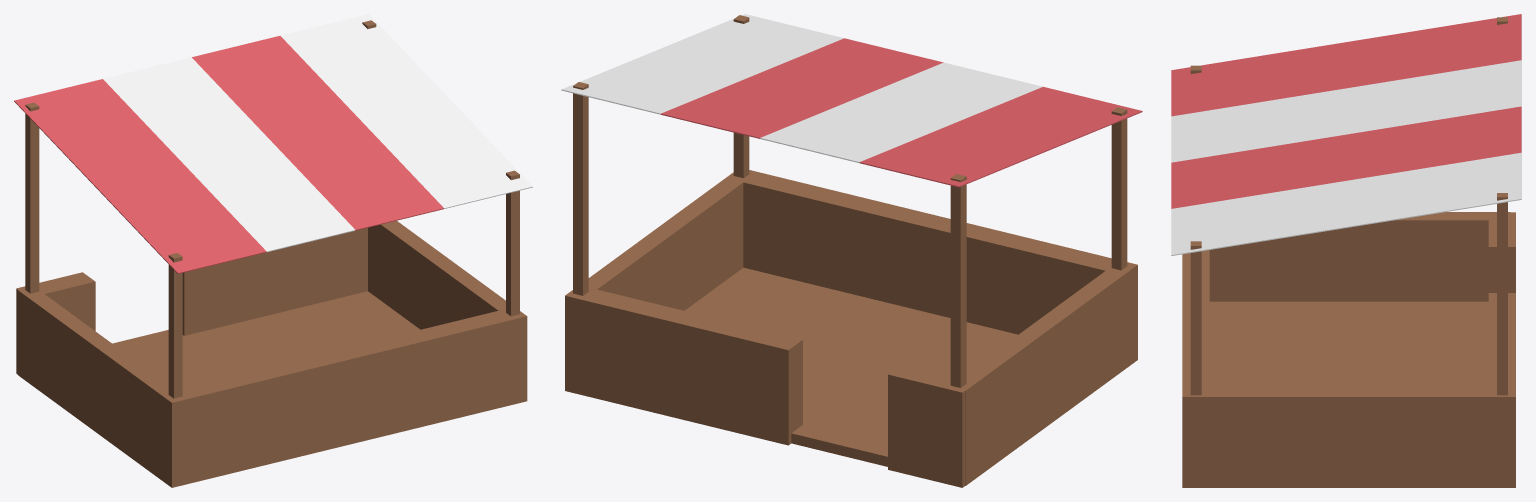
The model's file is Sell.glb.
3 views of the same model, side by side, from view 1: azimuth 30°, elevation 25°; view 2: azimuth 150°, elevation 25°; view 3: azimuth 270°, elevation 25° (orthographic). The views are drawn at different scales.
Visible parts, largest first — view 1: Cube copy copy copy copy (×3), Cube copy copy copy copy copy copy (×2), Cube copy copy copy copy copy (×2), Cube copy copy copy copy copy copy copy, Cube, Cube copy, Cube copy copy, Cube copy copy copy (×2); view 2: Cube copy copy copy copy (×4), Cube, Cube copy copy copy copy copy copy (×2), Cube copy, Cube copy copy copy copy copy (×2), Cube copy copy copy copy copy copy copy, Cube copy copy, Cube copy copy copy (×2); view 3: Cube copy copy copy copy copy copy (×2), Cube copy copy, Cube, Cube copy, Cube copy copy copy copy copy copy copy, Cube copy copy copy copy copy, Cube copy copy copy copy (×3), Cube copy copy copy (×2).
Part boxes in pixels (x1,y1,x2,y2): Cube copy copy copy copy (×3): (160,228,527,486); Cube copy copy copy copy copy copy (×2): (14,36,444,273); Cube copy copy copy copy copy (×2): (25,57,355,293); Cube copy copy copy copy copy copy copy: (280,14,532,208); Cube: (18,291,526,487); Cube copy: (18,289,187,487); Cube copy copy: (368,220,527,400); Cube copy copy copy (×2): (16,170,519,374); Cube copy copy copy copy (×4): (565,82,1127,445); Cube: (684,267,1137,485); Cube copy copy copy copy copy copy (×2): (660,38,1142,187); Cube copy: (950,262,1137,484); Cube copy copy copy copy copy (×2): (760,62,1042,387); Cube copy copy copy copy copy copy copy: (561,14,843,114); Cube copy copy: (588,170,757,310); Cube copy copy copy (×2): (733,15,974,487); Cube copy copy copy copy copy copy (×2): (1171,14,1521,208); Cube copy copy: (1182,388,1510,487); Cube: (1209,301,1488,388); Cube copy: (1209,212,1510,301); Cube copy copy copy copy copy copy copy: (1171,153,1521,255); Cube copy copy copy copy copy: (1171,60,1521,162); Cube copy copy copy copy (×3): (1182,193,1515,487); Cube copy copy copy (×2): (1190,212,1515,395).
Size of the model in its own units: 4.01 by 2.92 by 3.2.
